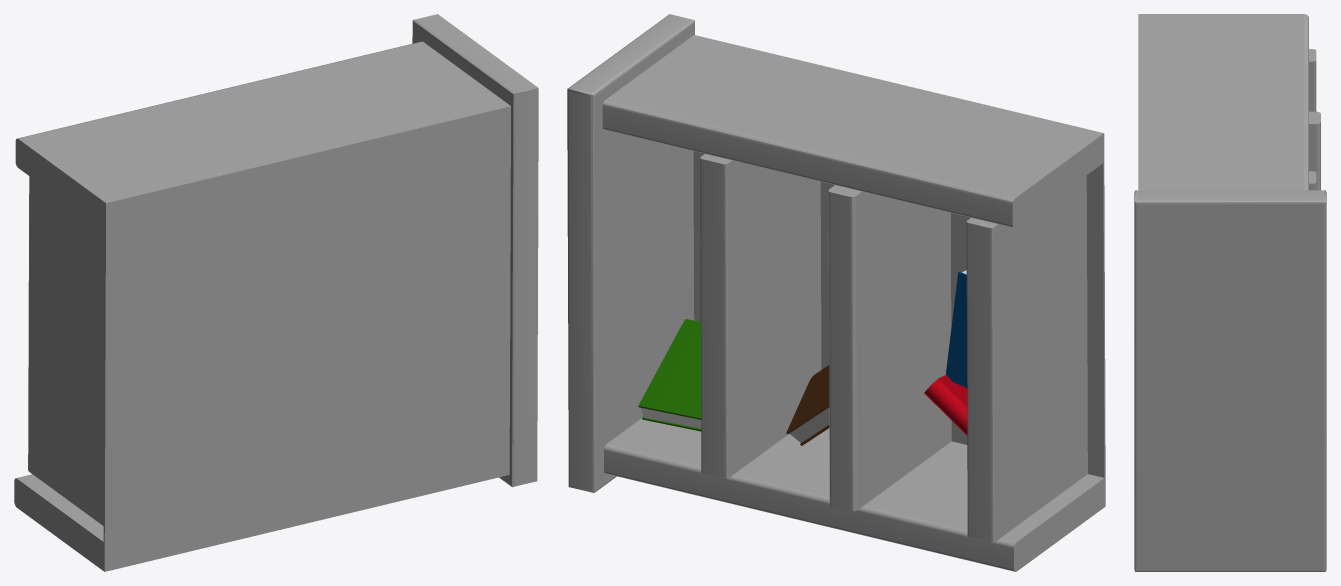
File: Fallen Bookcase.fbx
3 renders of one model, left to right at view 1: azimuth 30°, elevation 25°; view 2: azimuth 150°, elevation 25°; view 3: azimuth 270°, elevation 25°, orthographic. The views are drawn at different scales.
Visible parts, largest first — view 1: Tutorial_Model:Bookcase_5; view 2: Tutorial_Model:Bookcase_5; view 3: Tutorial_Model:Bookcase_5.
Part boxes in pixels (<box>): Tutorial_Model:Bookcase_5: <box>14,14,538,571</box>; Tutorial_Model:Bookcase_5: <box>567,14,1105,571</box>; Tutorial_Model:Bookcase_5: <box>1134,14,1326,571</box>.
Bounding box in the file's own units: 0.0646 × 0.0562 × 0.0264.
